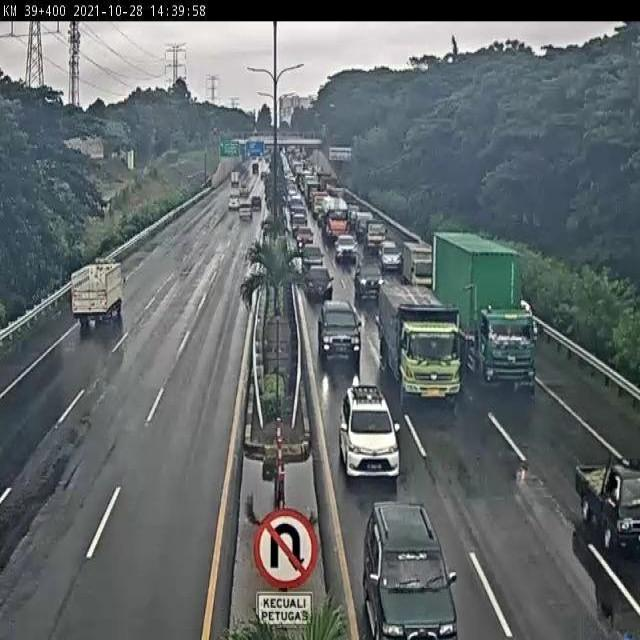big truck: (431, 232, 532, 385), (379, 282, 463, 402)
car: (364, 502, 456, 640), (576, 454, 640, 554), (341, 383, 401, 476), (318, 299, 363, 361), (305, 264, 334, 299), (355, 264, 381, 296), (363, 218, 388, 250), (335, 233, 359, 259), (378, 241, 400, 268), (301, 243, 323, 269)
mid truck: (71, 264, 125, 325)
small truck: (401, 239, 434, 281)
